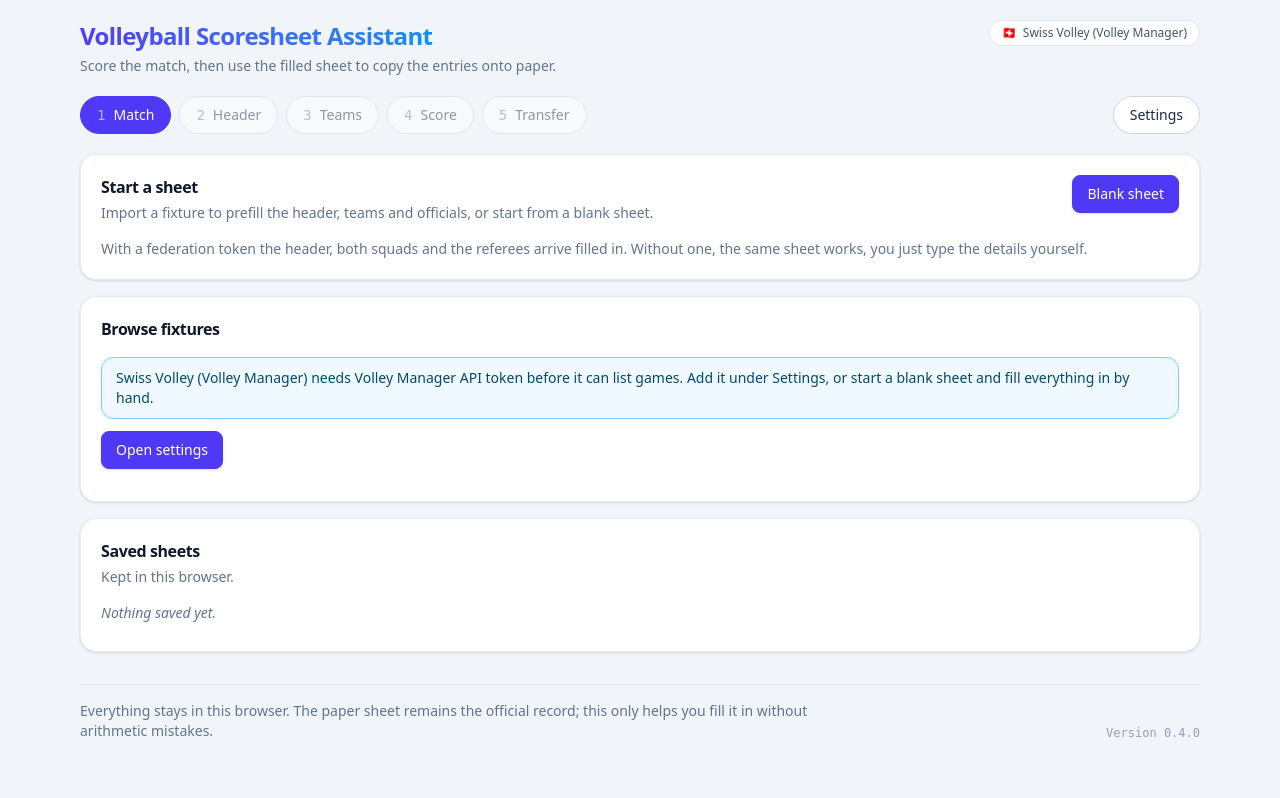
Scenario: app walkthrough › keeps a sheet in the saved list
This screenshot has width=1280, height=798.
Click the button "Blank sheet" at (1126, 194), box [1072, 175, 1179, 213]
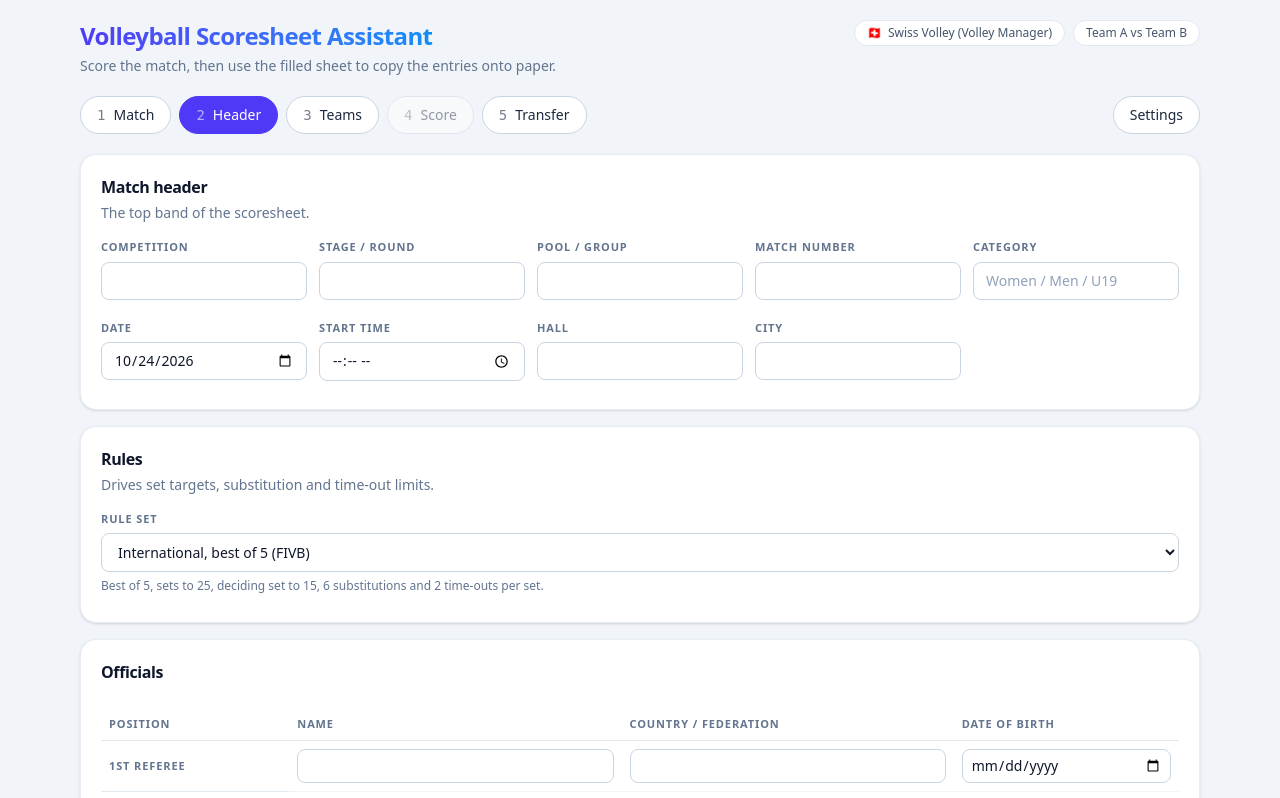
Type "Cup" into the field labelled "Competition" at (204, 280), box [101, 262, 307, 300]
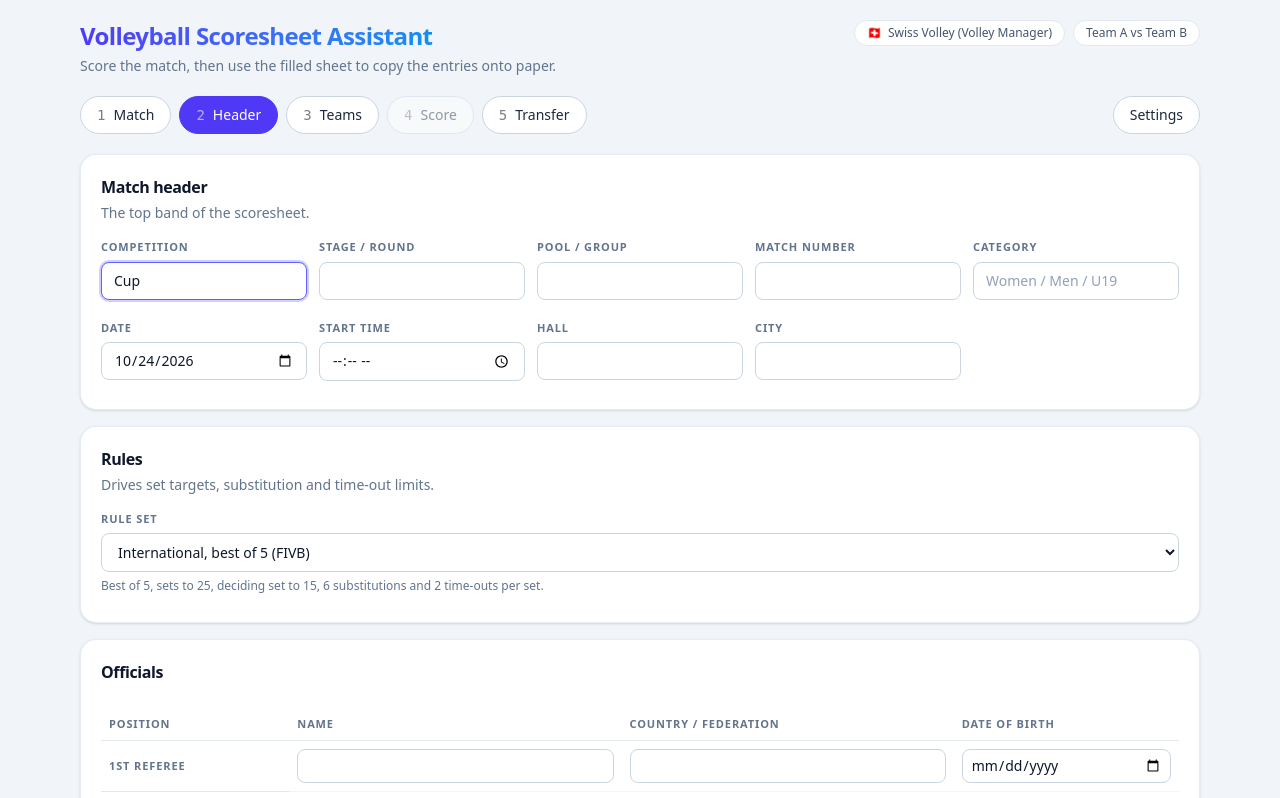
Click the button "1 Match" at (126, 115), box [80, 96, 171, 134]
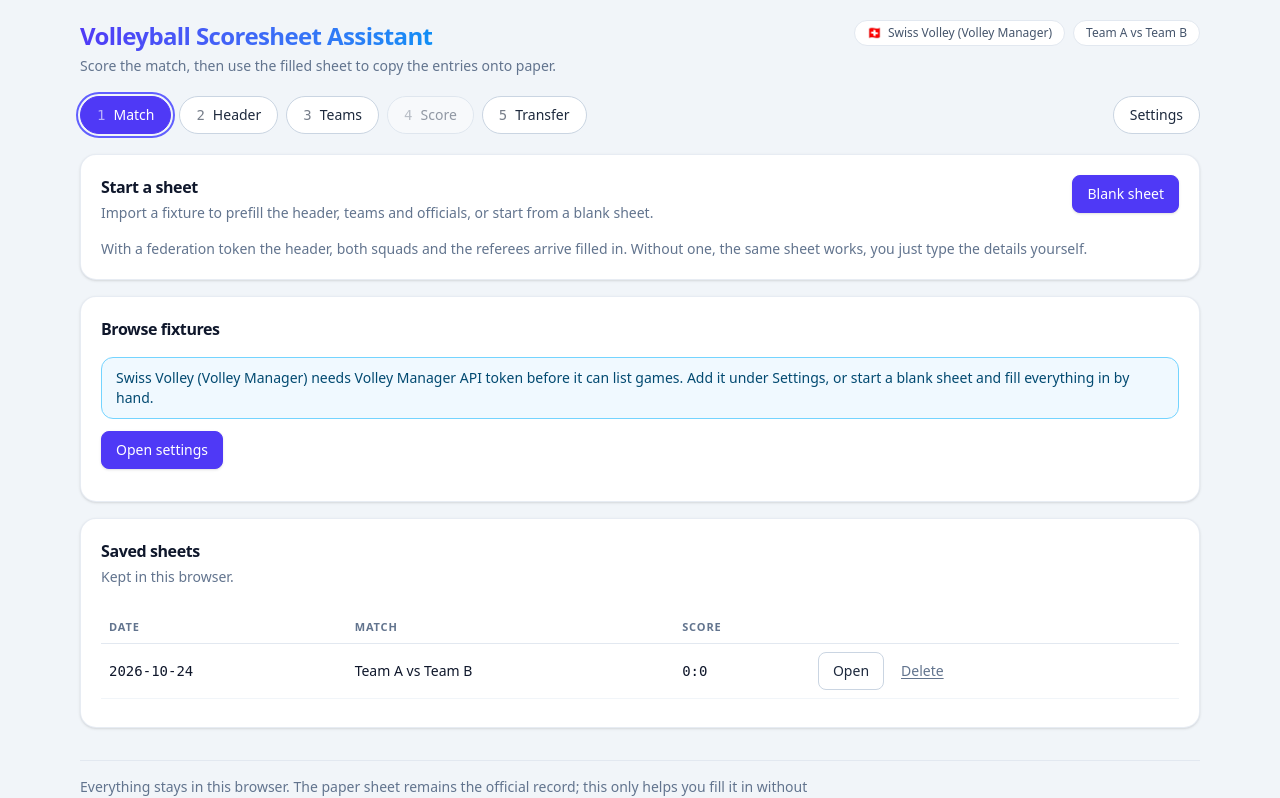
Expected: the button "Open" is shown, [818, 652, 884, 690]
